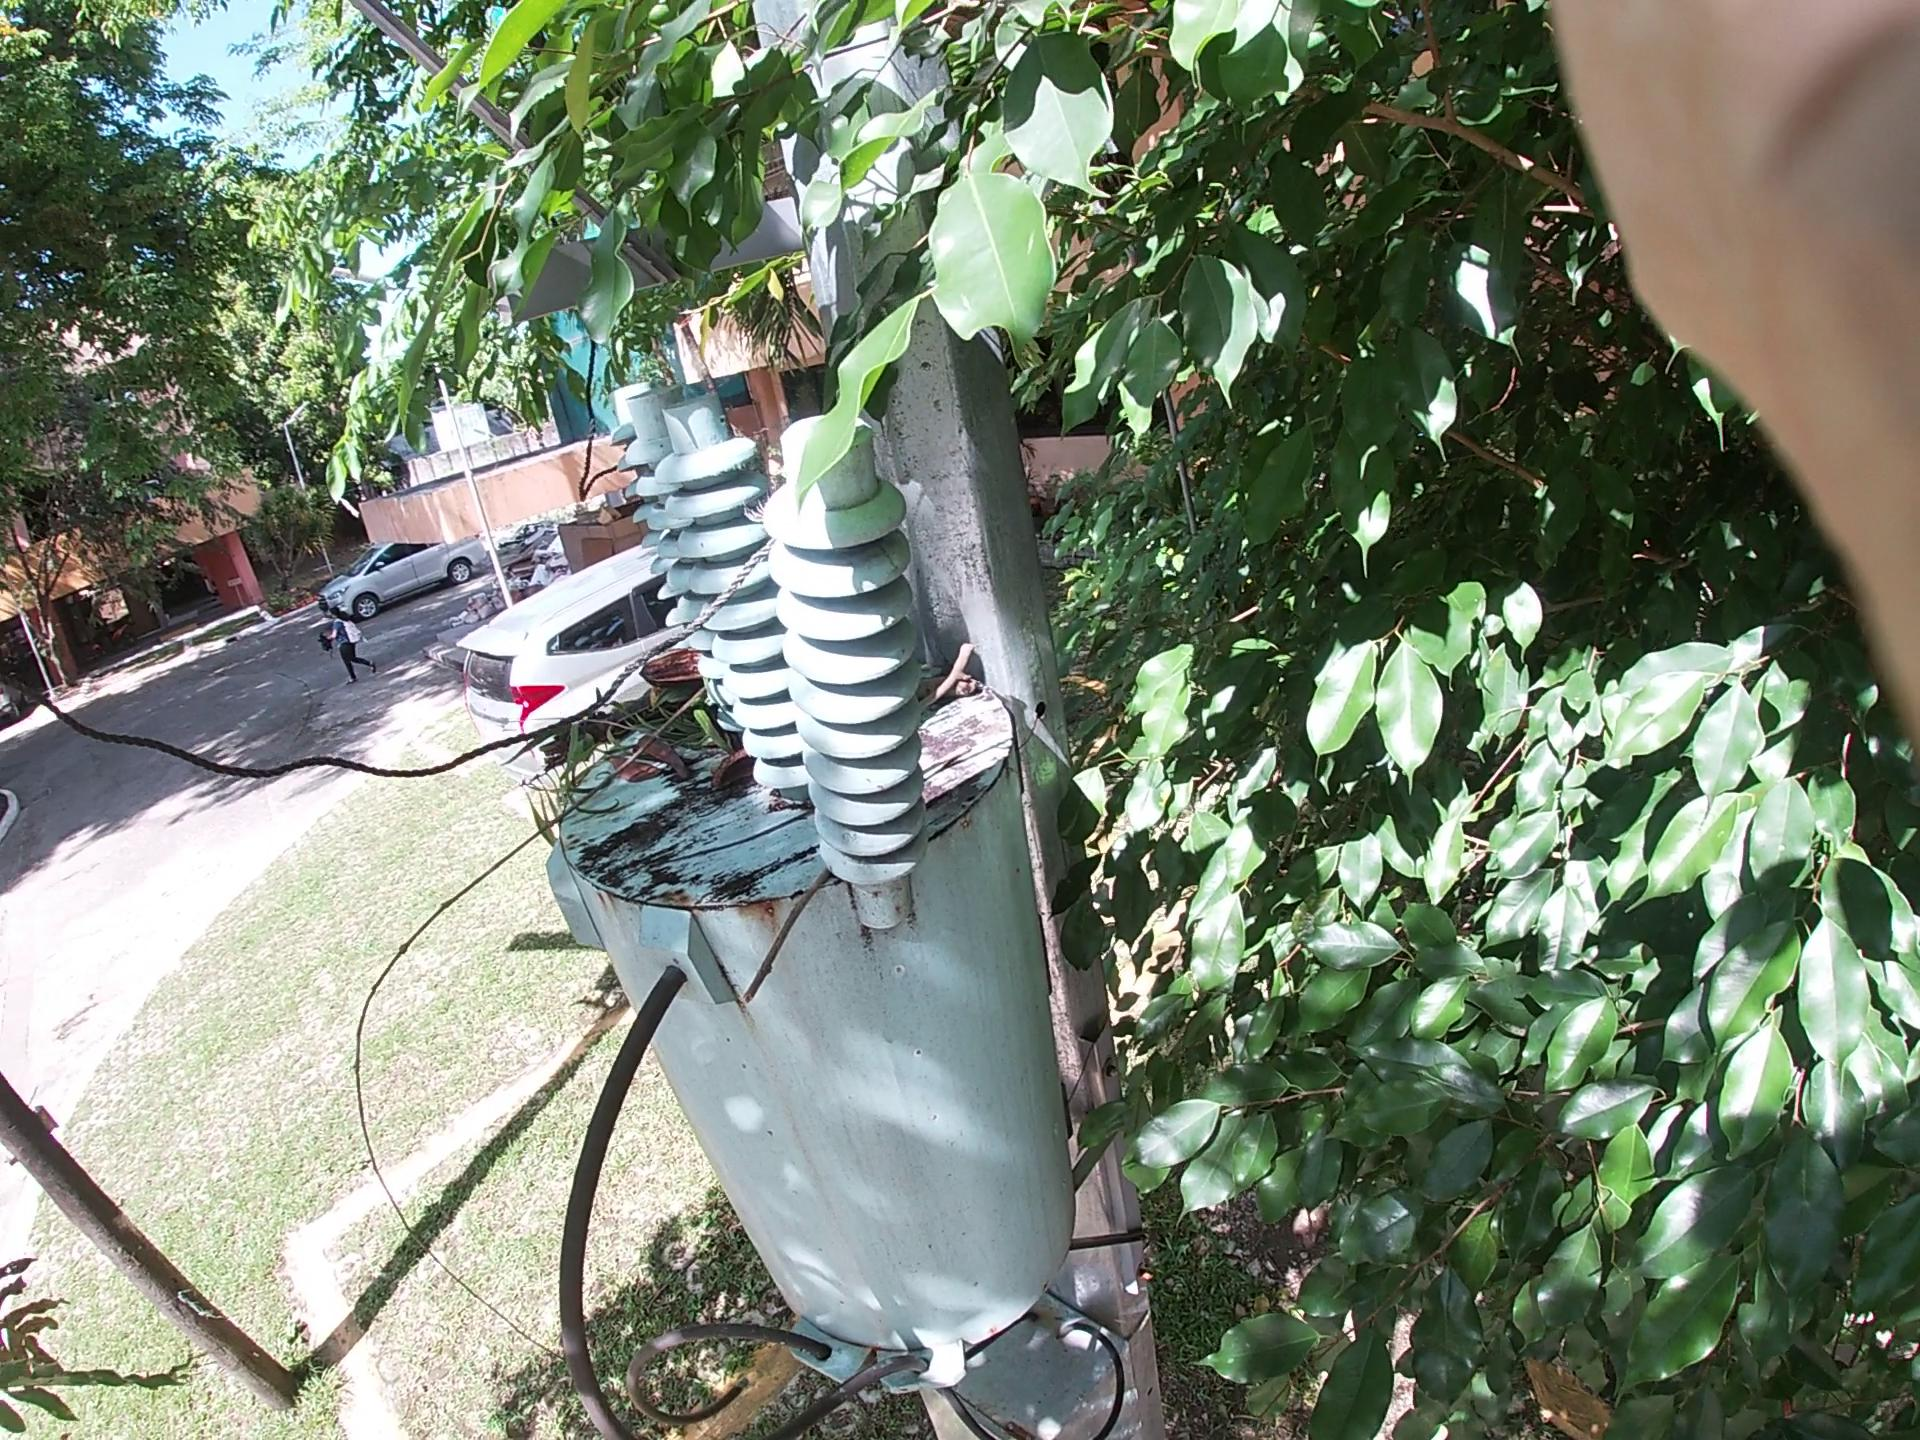branch with leaves: (547, 555, 770, 833), (735, 735, 878, 1019)
leaf: (599, 720, 677, 800)
mahogany fruit: (559, 594, 705, 693), (679, 725, 770, 821)
tree branch: (478, 613, 683, 1289), (912, 537, 1017, 746)
